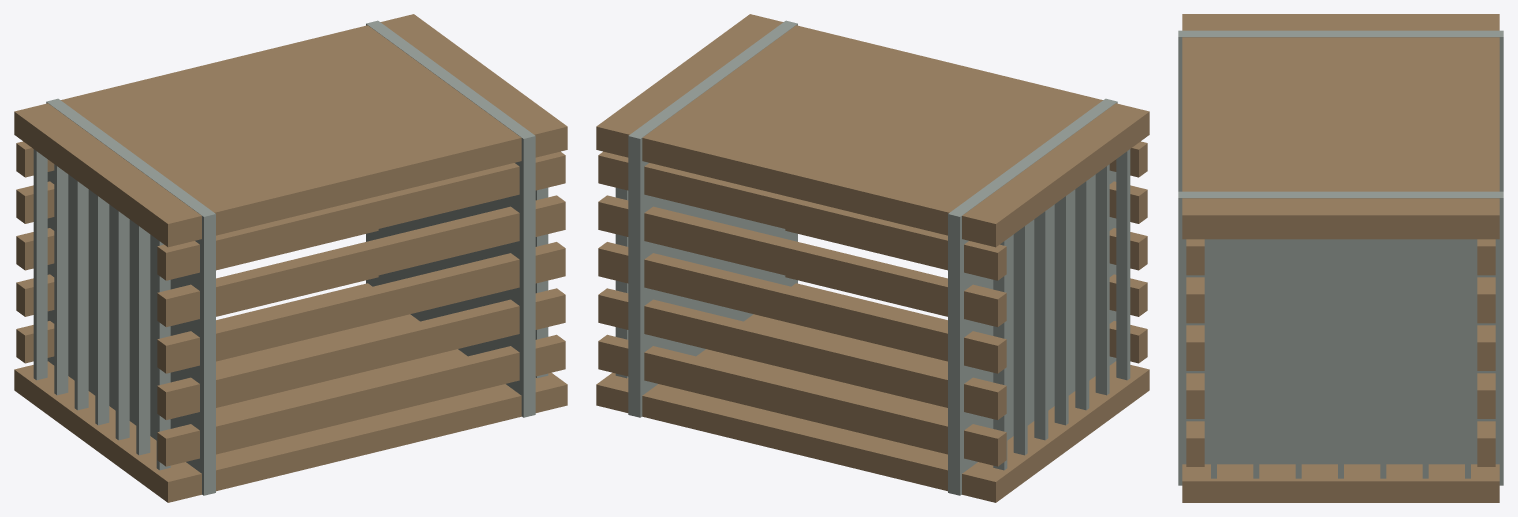
Rendered from zoo-and-safari-park-builder-animal-transport-crate-0b711c75__21512.glb.
The picture shows the model from 3 angles, left to right: view 1: azimuth 30°, elevation 25°; view 2: azimuth 150°, elevation 25°; view 3: azimuth 270°, elevation 25°; orthographic projection. The views are drawn at different scales.
Visible parts, largest first — view 1: animal-transport-crate; view 2: animal-transport-crate; view 3: animal-transport-crate.
Part boxes in pixels (box(x1,y1,x2,y2)): animal-transport-crate: box(14, 14, 567, 502); animal-transport-crate: box(596, 14, 1149, 502); animal-transport-crate: box(1178, 14, 1503, 502).
Size of the model in its own units: 1.8 by 1.2 by 1.23.
